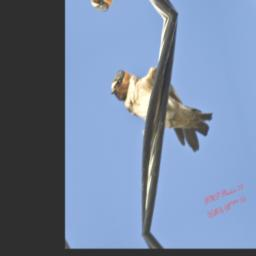Swallow: (105, 38, 220, 180)
